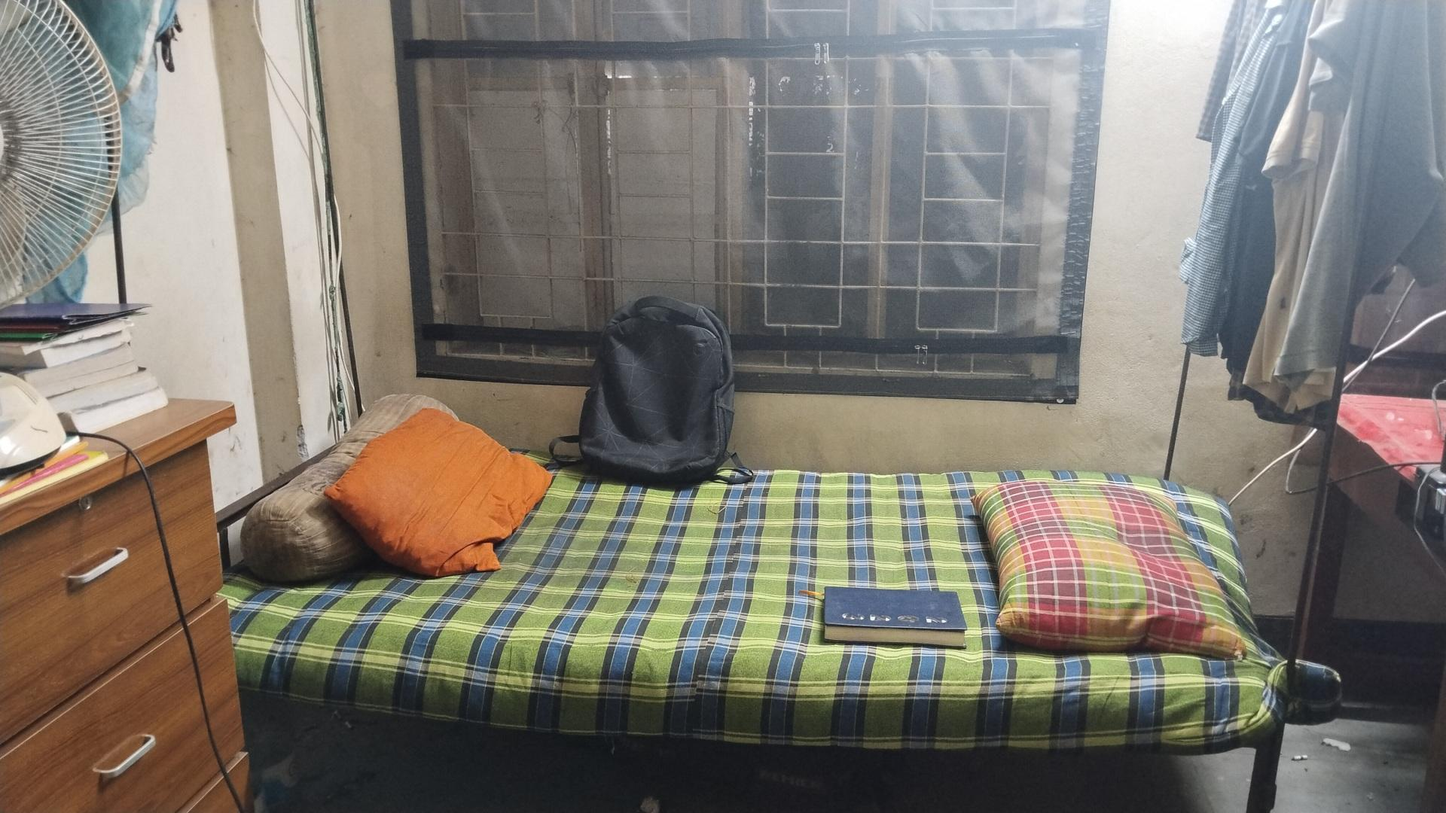Bag: (574, 305, 737, 480)
Notebook: (820, 579, 967, 657)
Pillow: (970, 490, 1247, 655), (340, 403, 551, 573)
